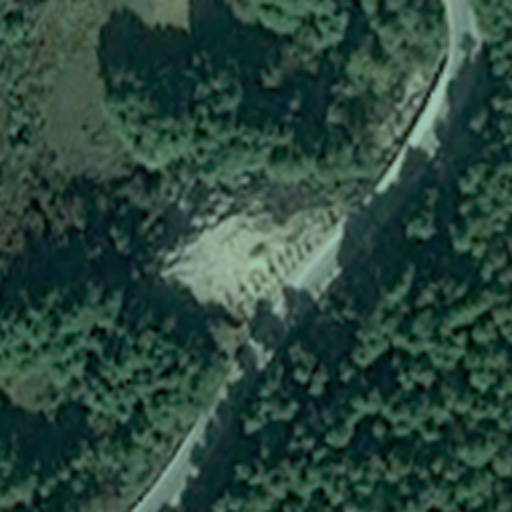landslide: (154, 212, 319, 307)
